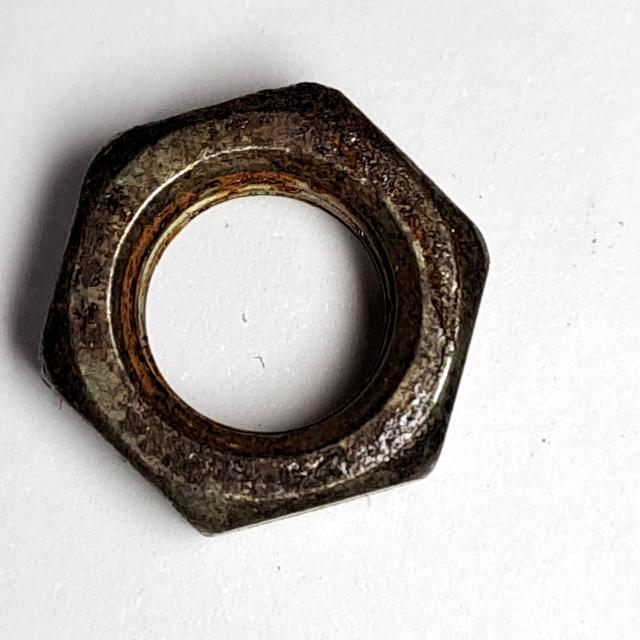Rust: (25, 72, 499, 553)
